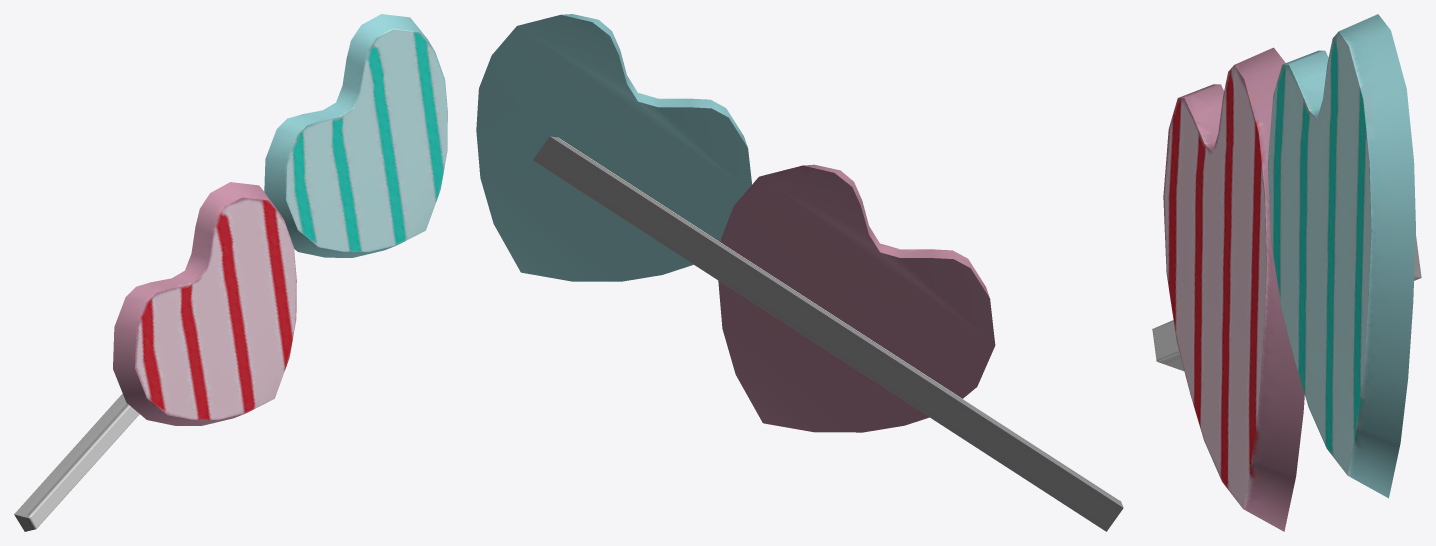
Rendered from _headwear_046.fbx.
3 views of the same model, side by side, from view 1: azimuth 30°, elevation 25°; view 2: azimuth 150°, elevation 25°; view 3: azimuth 270°, elevation 25° (orthographic). The views are drawn at different scales.
Visible parts, largest first — view 1: f_headwear_046; view 2: f_headwear_046; view 3: f_headwear_046.
Boxes of the visible parts, bbox=[...] form: f_headwear_046: bbox=[14, 14, 447, 531]; f_headwear_046: bbox=[476, 14, 1123, 531]; f_headwear_046: bbox=[1152, 14, 1421, 531].
Size of the model in its own units: 3.85 by 2.85 by 0.96.
